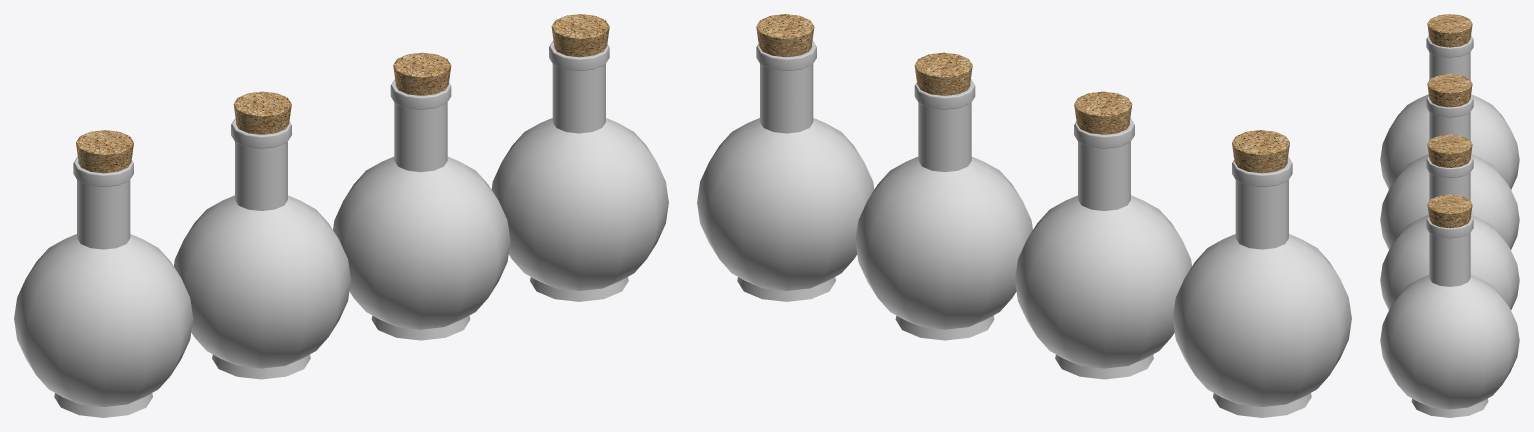
File: RunnerPotion.fbx
The picture shows the model from 3 angles, left to right: view 1: azimuth 30°, elevation 25°; view 2: azimuth 150°, elevation 25°; view 3: azimuth 270°, elevation 25°; orthographic projection. The views are drawn at different scales.
Visible parts, largest first — view 1: PinkPotionBottle, GreenPotionBottle, RedPotionBottle, PurplePotionBottle, Cork1, Cork4, Cork2, Cork3; view 2: PinkPotionBottle, GreenPotionBottle, RedPotionBottle, PurplePotionBottle, Cork1, Cork4, Cork2, Cork3; view 3: RedPotionBottle, PurplePotionBottle, GreenPotionBottle, PinkPotionBottle, Cork3, Cork2, Cork4, Cork1.
Boxes of the visible parts, x1,y1,x2,y2 form: PinkPotionBottle: (14,157,193,417); GreenPotionBottle: (333,79,510,340); RedPotionBottle: (491,40,668,301); PurplePotionBottle: (174,118,350,379); Cork1: (76,130,133,173); Cork4: (551,14,609,57); Cork2: (233,91,291,134); Cork3: (393,52,451,95); PinkPotionBottle: (1172,157,1351,417); GreenPotionBottle: (855,79,1032,340); RedPotionBottle: (697,40,874,301); PurplePotionBottle: (1015,118,1191,379); Cork1: (1232,130,1289,173); Cork4: (756,14,814,57); Cork2: (1074,91,1132,134); Cork3: (914,52,972,95); RedPotionBottle: (1380,216,1519,417); PurplePotionBottle: (1380,95,1519,249); GreenPotionBottle: (1380,156,1519,309); PinkPotionBottle: (1380,35,1519,189); Cork3: (1427,134,1472,167); Cork2: (1427,74,1472,107); Cork4: (1427,194,1472,228); Cork1: (1427,14,1472,47).
Bounding box in the file's own units: 404 × 156 × 99.45.
2 materials, 1 textured.
